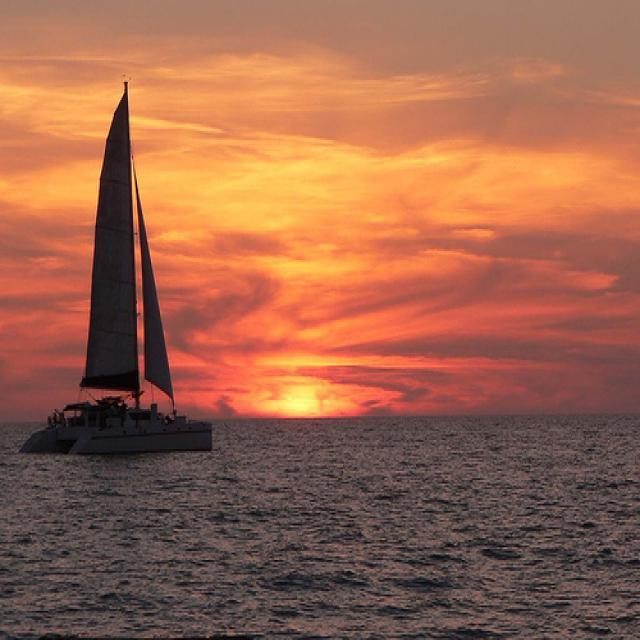Ship: (17, 81, 223, 457)
